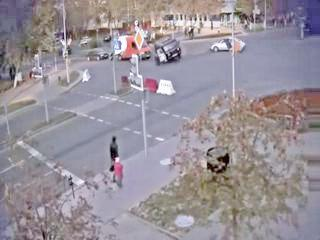Car: (112, 37, 152, 62), (157, 37, 179, 64), (210, 35, 243, 52), (86, 50, 109, 61), (104, 34, 111, 42)
Minor Accident: (156, 34, 245, 64)
